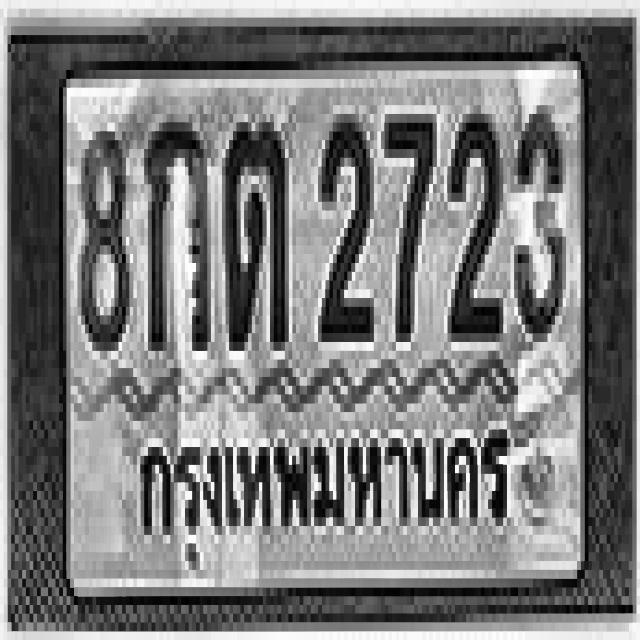license-plate: (12, 31, 632, 613)
